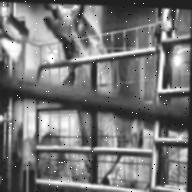boar: (31, 2, 126, 179)
